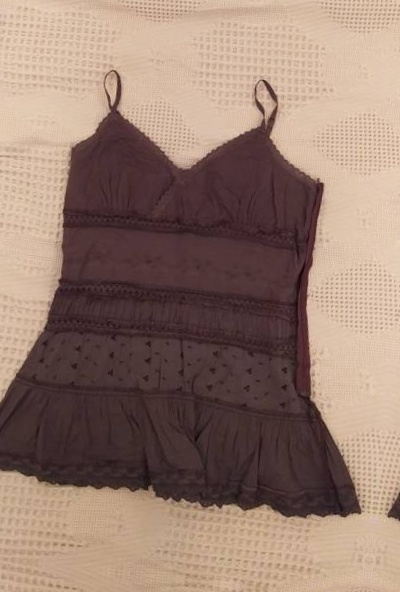Dress: (0, 49, 400, 545), (384, 97, 400, 592)
